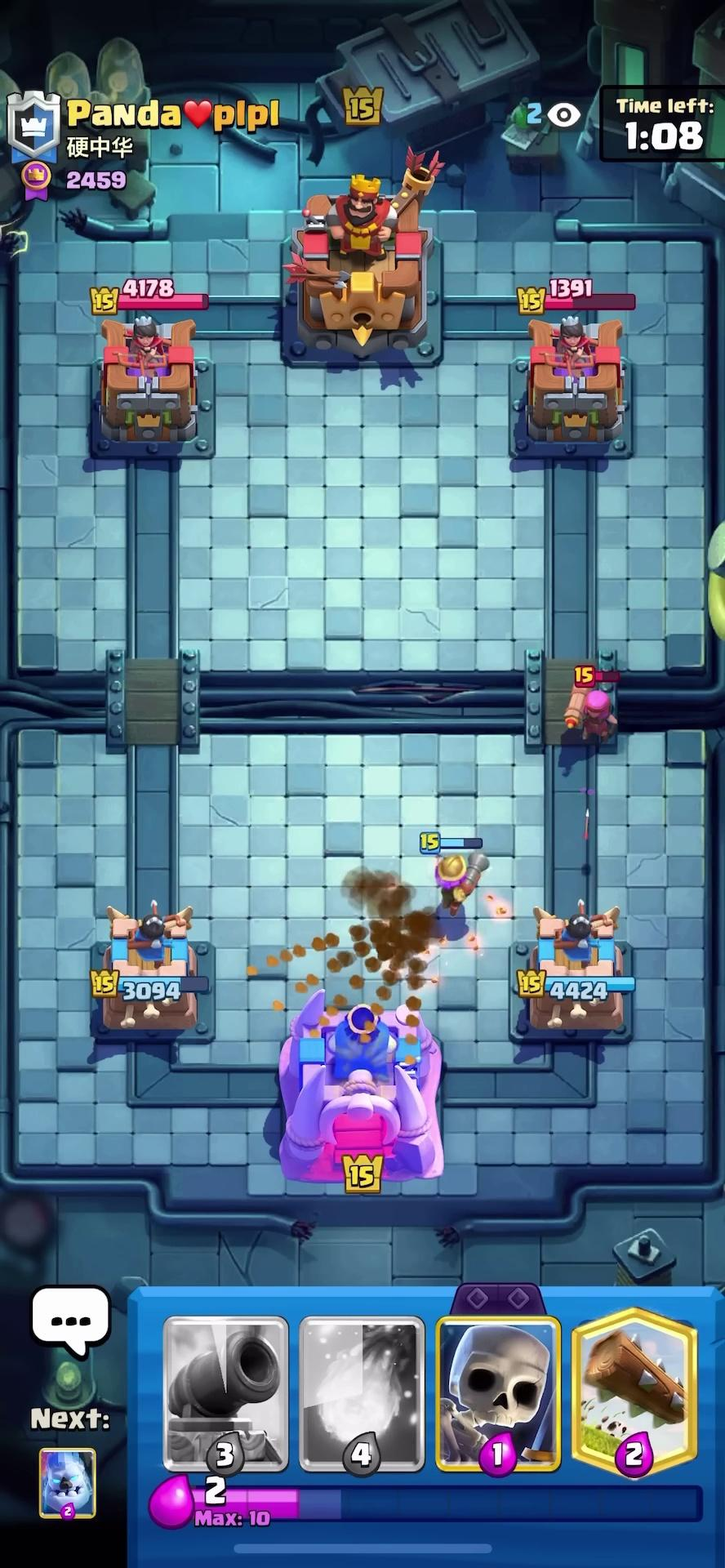musketeer: (427, 819, 496, 911)
